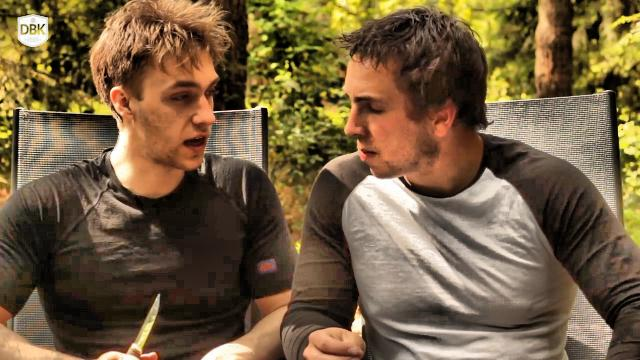knife: (110, 283, 172, 360)
